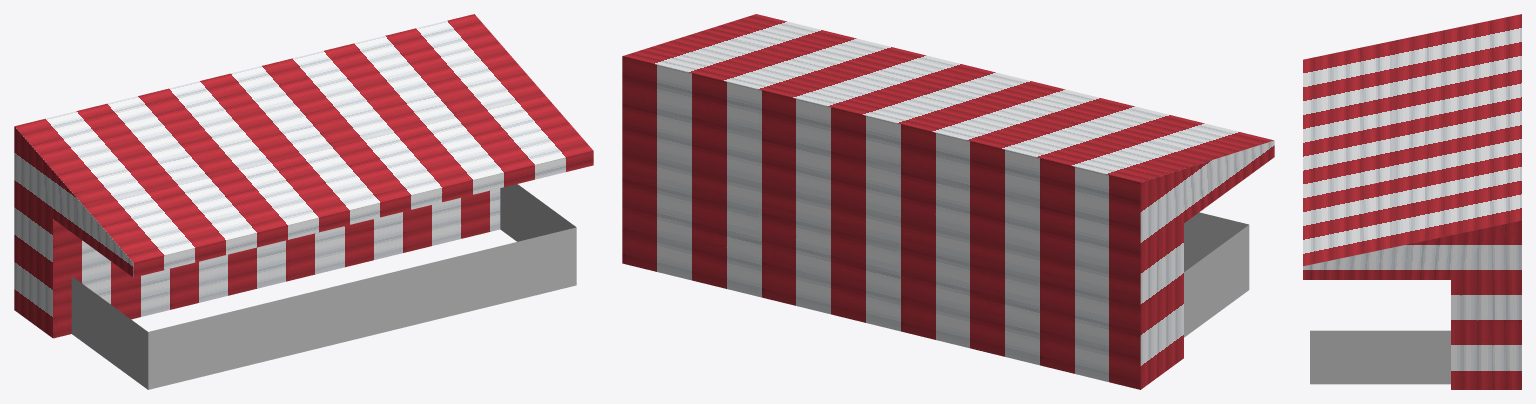
Rendered from Tents03.fbx.
3 renders of one model, left to right at view 1: azimuth 30°, elevation 25°; view 2: azimuth 150°, elevation 25°; view 3: azimuth 270°, elevation 25°, orthographic. The views are drawn at different scales.
Parts seen in each view (by area): view 1: Empty_Mesh; view 2: Empty_Mesh; view 3: Empty_Mesh.
Boxes of the visible parts, left/top/right/bottom form: Empty_Mesh: left=14, top=14, right=593, bottom=389; Empty_Mesh: left=622, top=14, right=1274, bottom=389; Empty_Mesh: left=1303, top=14, right=1521, bottom=389.
Bounding box in the file's own units: 19.09 × 7.3 × 8.55.
